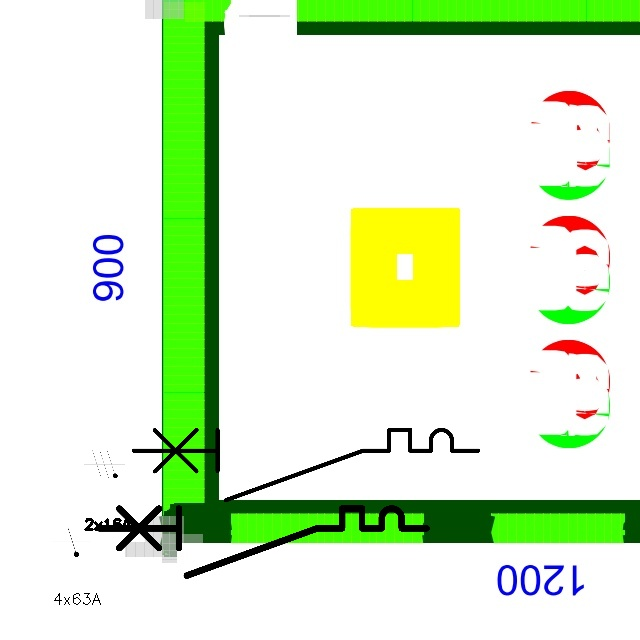interruptor_termomagnetico: (124, 421, 486, 509), (90, 500, 434, 584)
